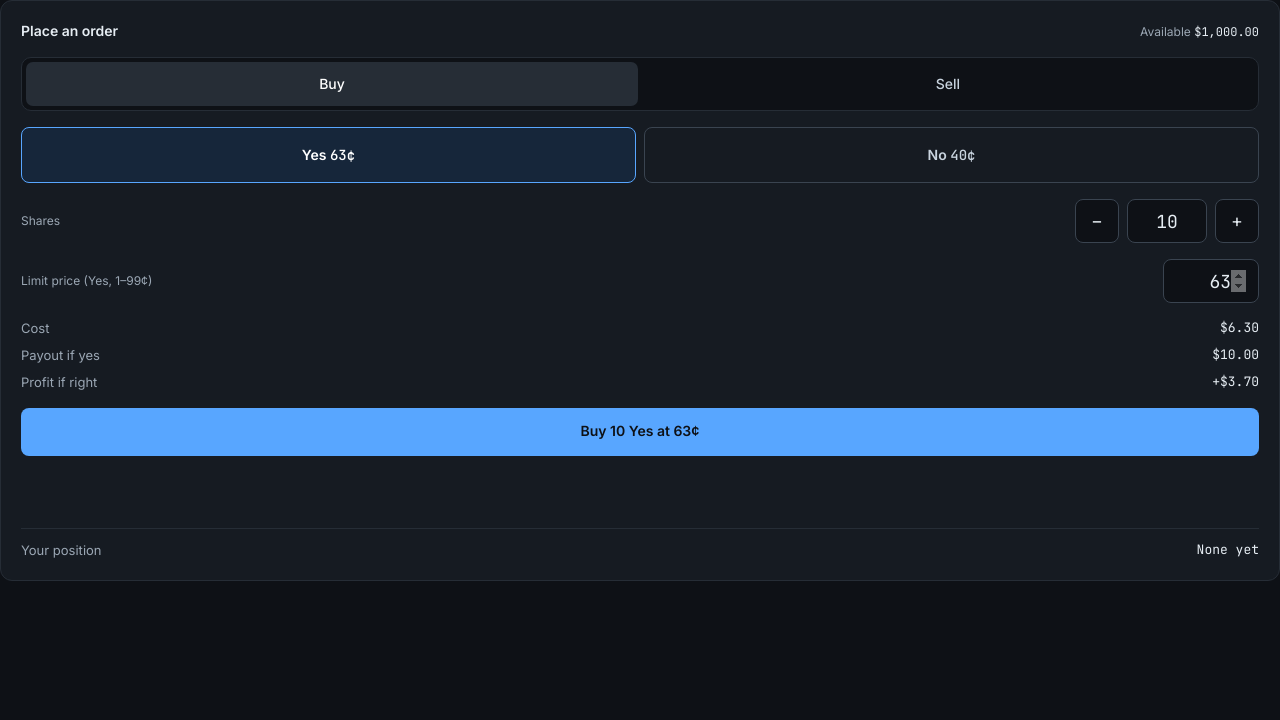
OrderTicket › submits the order with an idempotency key and shows the fill
Replace the text in the number field with test id "ticket-price" with "64" at (1211, 281), box [1163,259,1259,303]
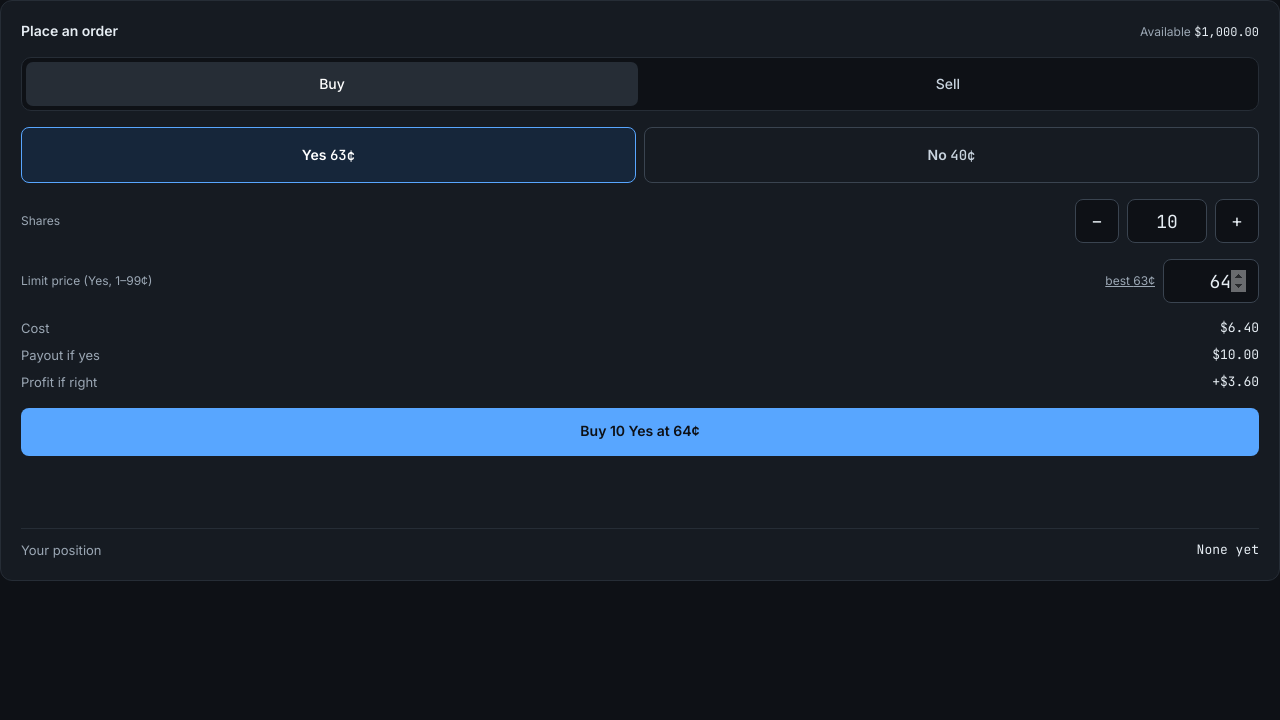
Click the button with test id "ticket-submit" at (640, 432), box [21,408,1259,456]
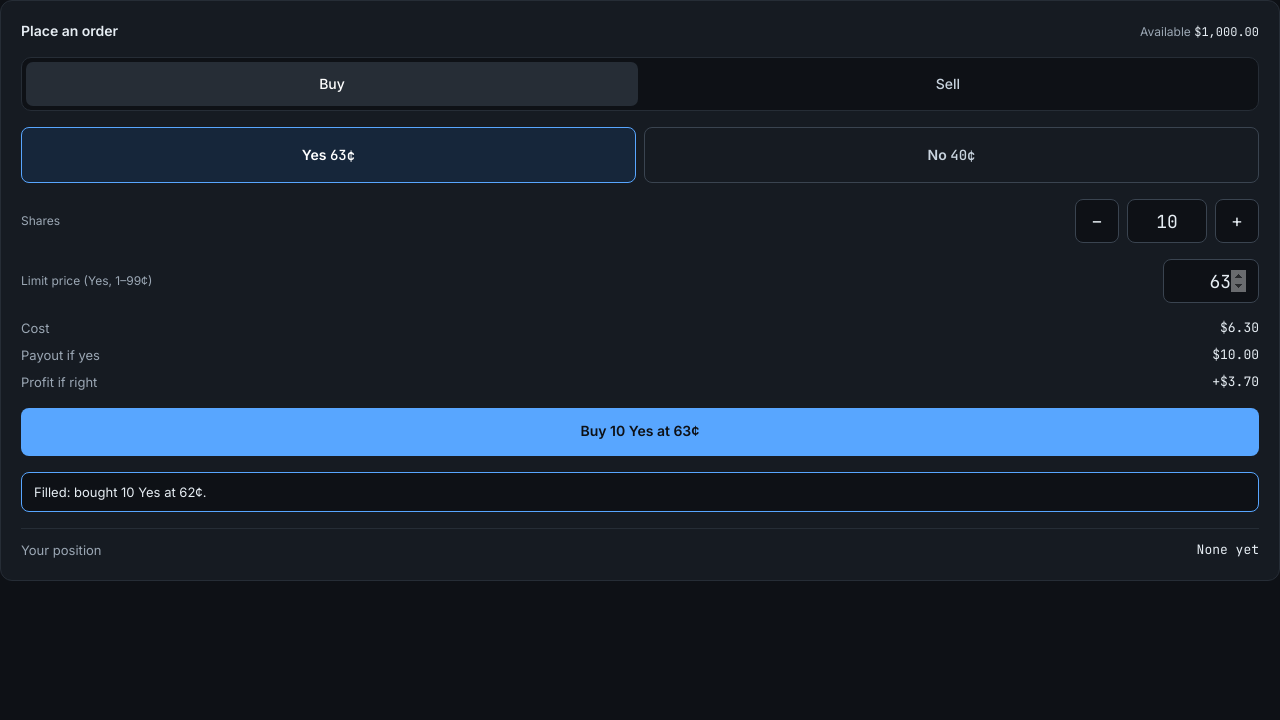
Expected: the message with test id "ticket-toast" reads "Filled: bought 10 Yes at 62¢.", [34,484,206,500]
